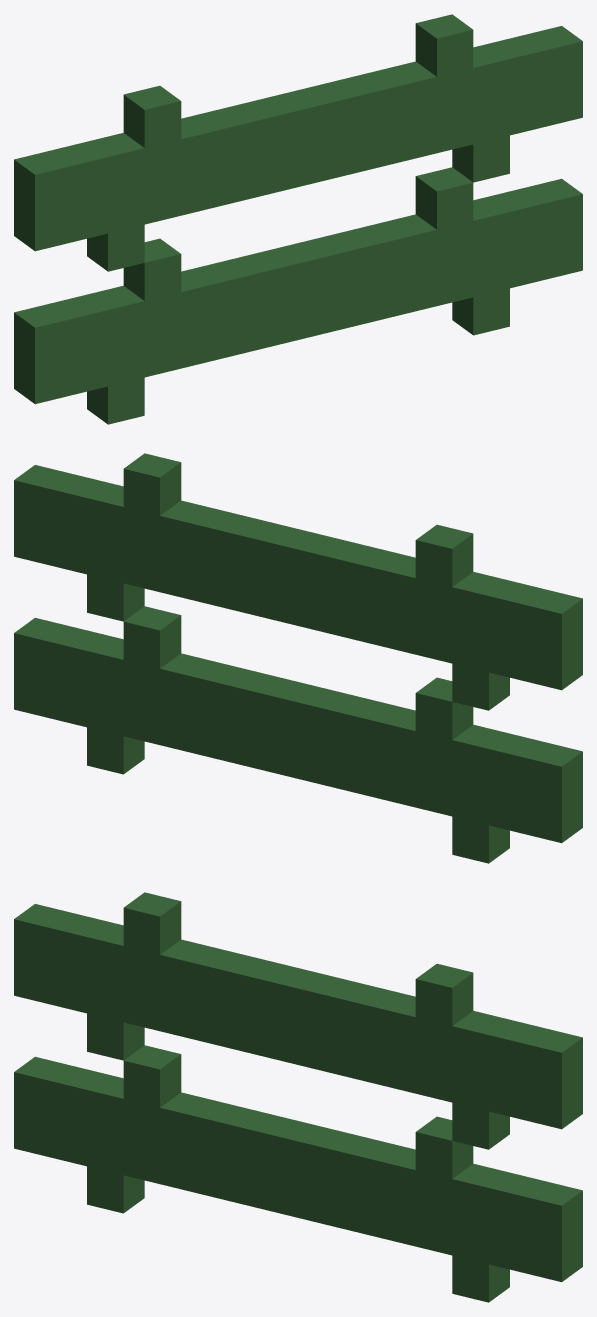
Rendered from MazeGreen2Stairs.vox.obj.
3 views of the same model, one above another, from view 1: azimuth 30°, elevation 25°; view 2: azimuth 150°, elevation 25°; view 3: azimuth 330°, elevation 25° (orthographic).
Bounding box in the file's own units: 1.5 × 0.8 × 0.1.
Materials: 1 (1 with a texture image).
